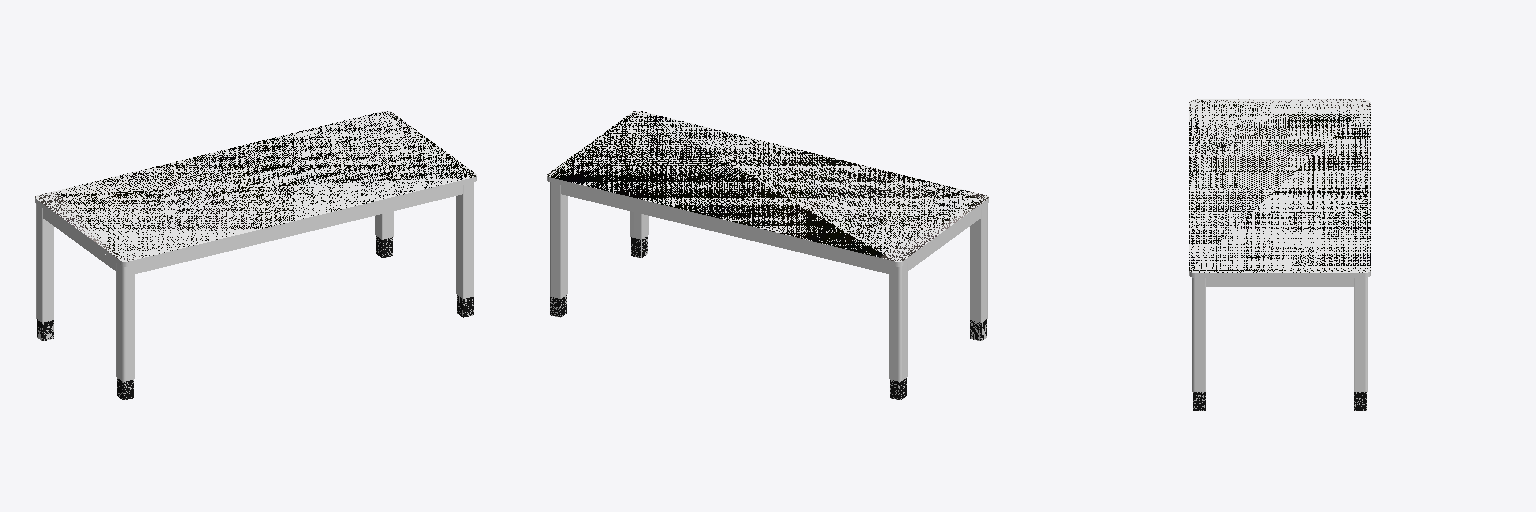
3 views of the same model, side by side, from view 1: azimuth 30°, elevation 25°; view 2: azimuth 150°, elevation 25°; view 3: azimuth 270°, elevation 25° (orthographic).
Parts seen in each view (by area): view 1: mesh1_mesh1-geometry, mesh2_mesh2-geometry; view 2: mesh1_mesh1-geometry, mesh2_mesh2-geometry; view 3: mesh1_mesh1-geometry, mesh2_mesh2-geometry.
Part boxes in pixels (bbox=[...]): mesh1_mesh1-geometry: bbox=[35, 111, 476, 266]; mesh2_mesh2-geometry: bbox=[36, 182, 473, 399]; mesh1_mesh1-geometry: bbox=[547, 111, 988, 266]; mesh2_mesh2-geometry: bbox=[550, 182, 987, 399]; mesh1_mesh1-geometry: bbox=[1189, 99, 1370, 277]; mesh2_mesh2-geometry: bbox=[1192, 278, 1367, 410].
Bounding box in the file's own units: 0.8656 × 0.3241 × 0.3817.
Materials: 5 (1 with a texture image).